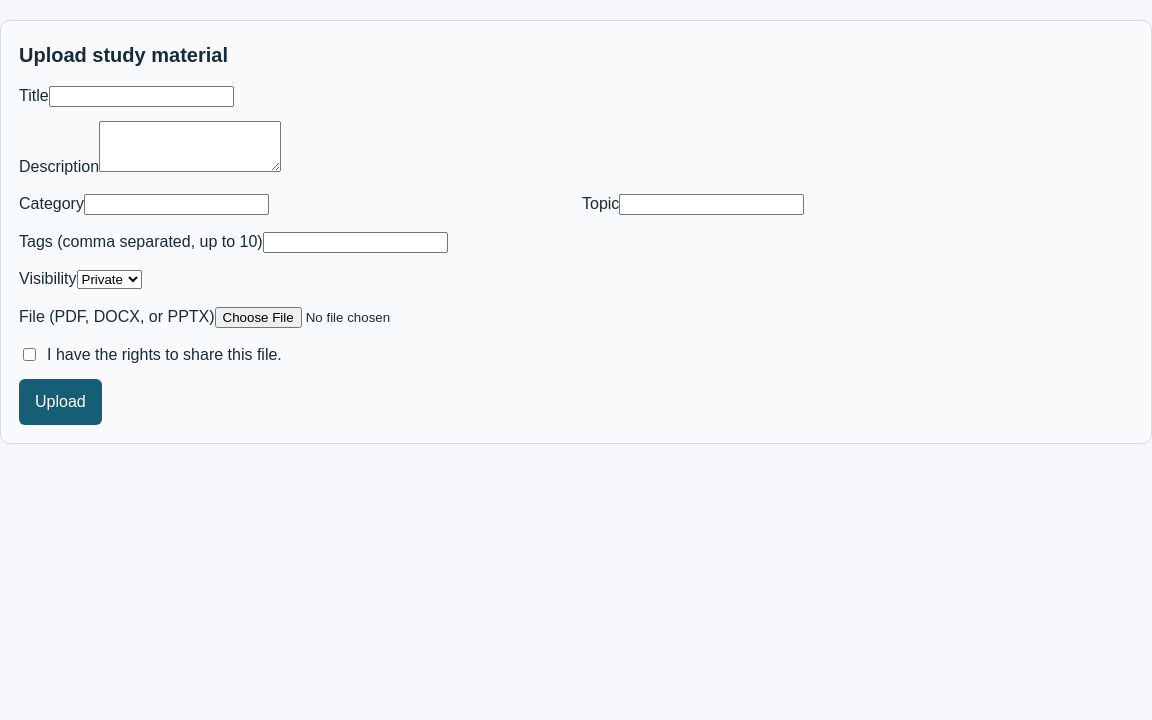
Test: upload form shows inline validation and does not submit invalid data
Click the button "Upload" at [60, 402], box [19, 379, 102, 425]
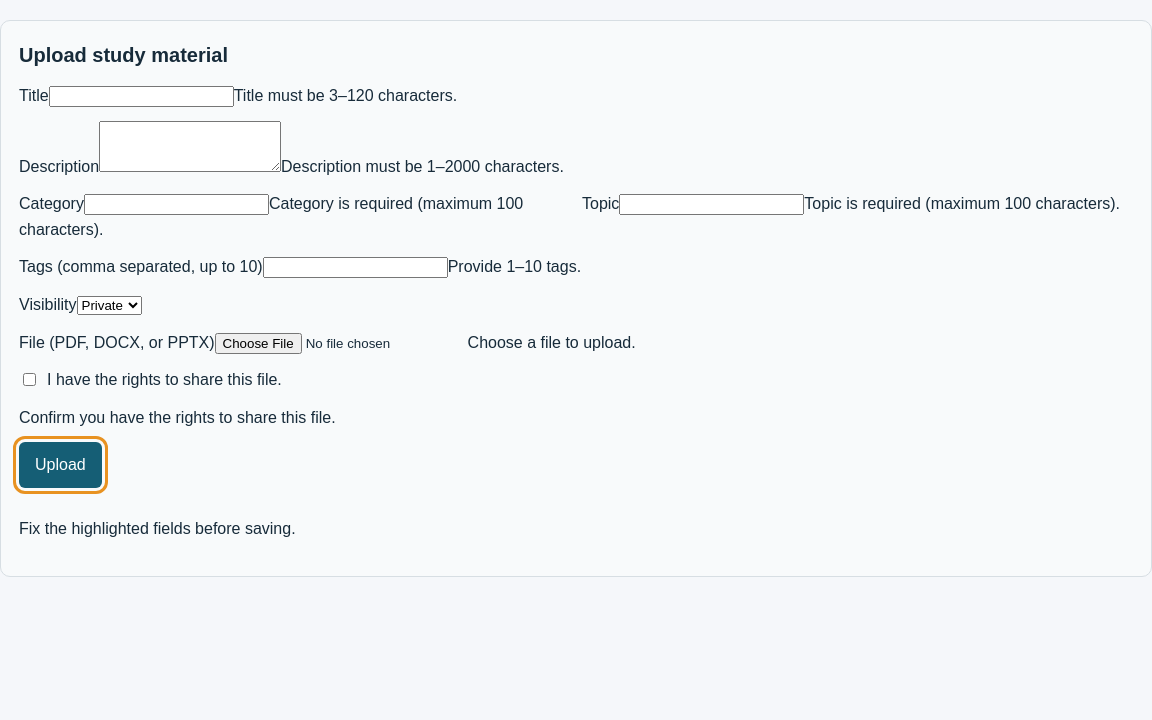
Now the text "Title must be 3–120 characters." is shown, box [234, 87, 457, 104]
Now the text "Description must be 1–2000 characters." is shown, box [281, 158, 564, 175]
Now the text "Category is required (maximum 100 characters)." is shown, box [19, 195, 523, 238]
Type "Database notes" into the field labelled "Title" at [141, 96], box [49, 86, 234, 107]
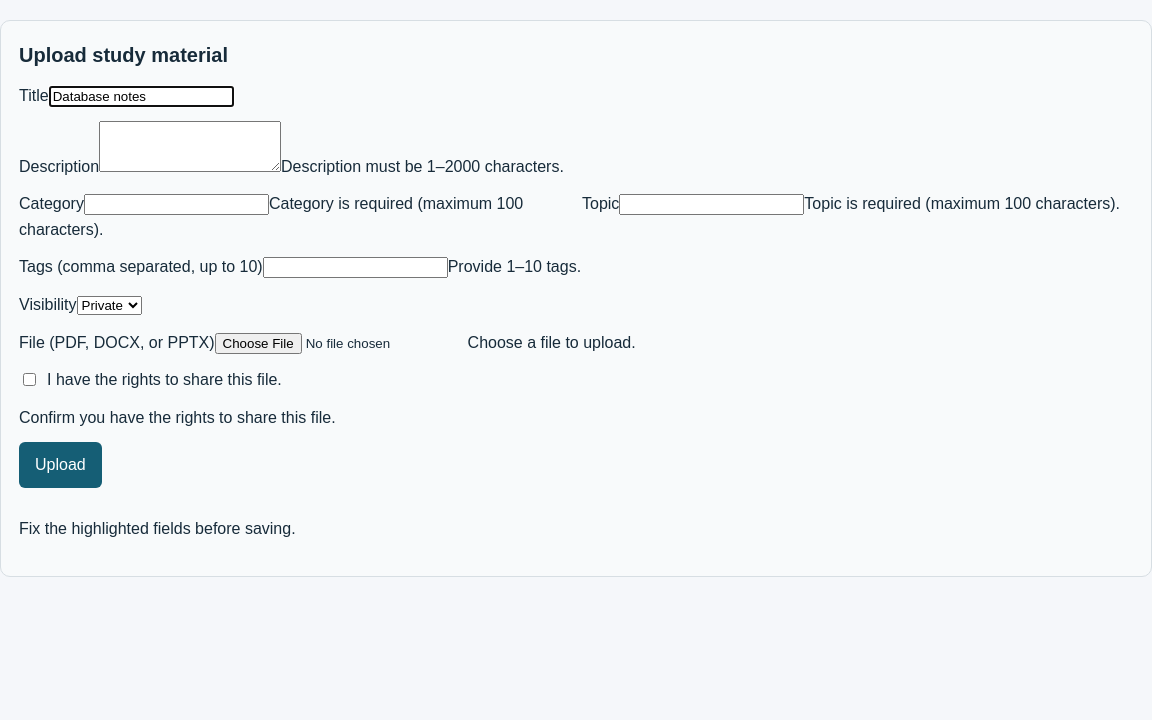
Now the text "Title must be 3–120 characters." is gone
